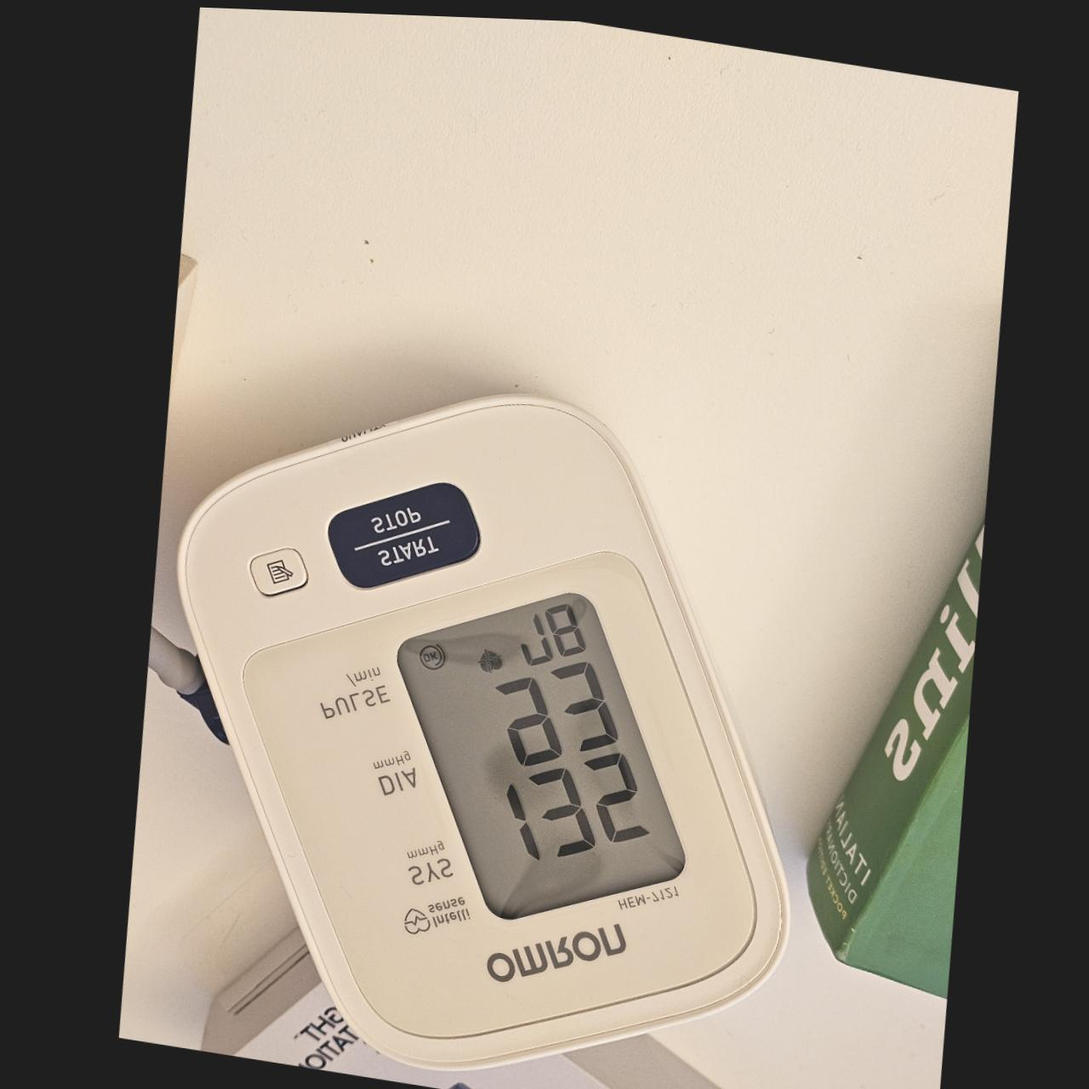blood pressure monitor: (106, 331, 863, 1089)
